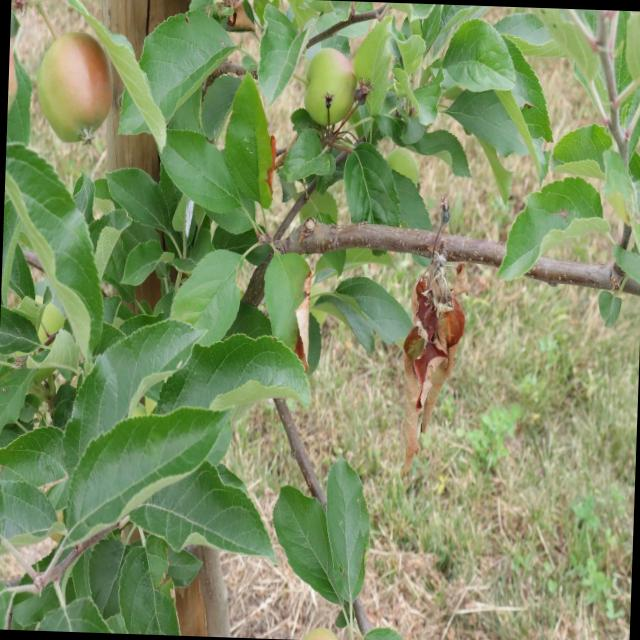-FireBlight-: (402, 268, 464, 474)
